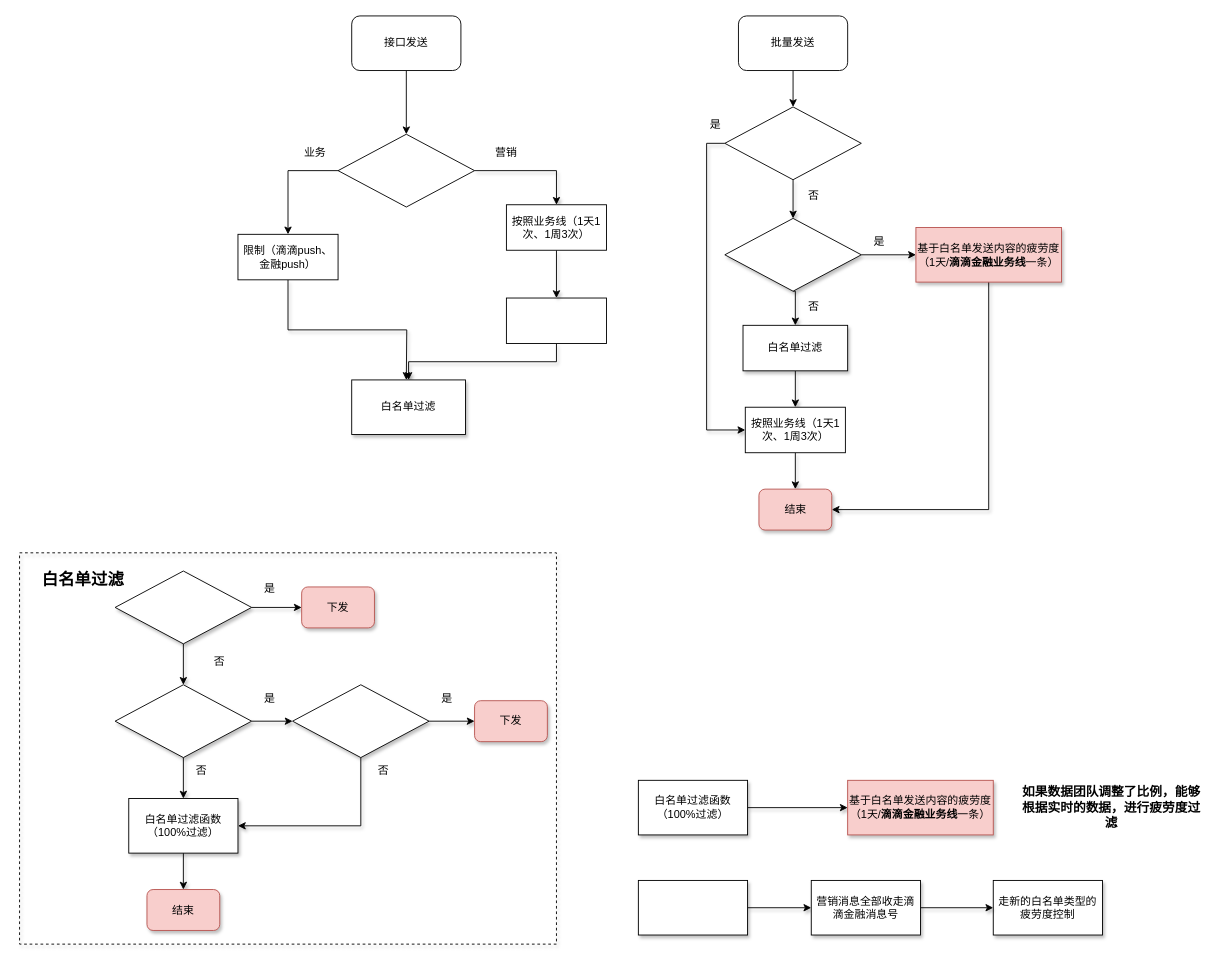
The diagram is 1224 pixels wide and 966 high, and some of its shapes have lost their labels. The shapes that lost their labels are listed below. From the top down, each one's centre as x and y in pixels, then its label:
[792,143]: 是否为司机端
[406,170]: 消息类型
[793,256]: 是否为白名单任务
[556,320]: 所有渠道
[184,608]: 支付业务线
[184,722]: 信贷业务线
[361,722]: 信贷老客
[693,908]: 支持业务线个性化营销消息下发
